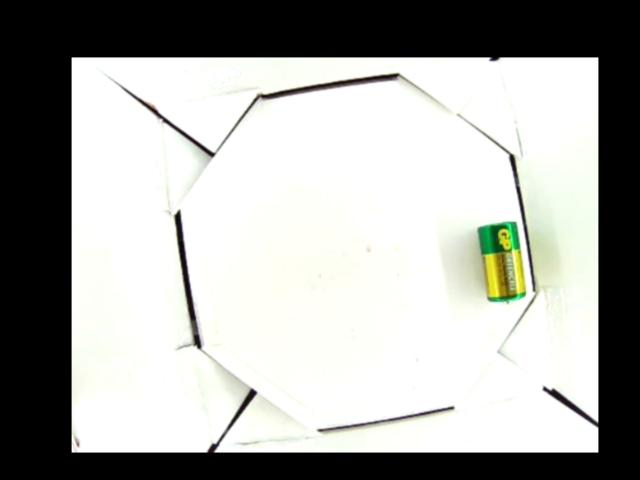Battery: (479, 220, 528, 306)
